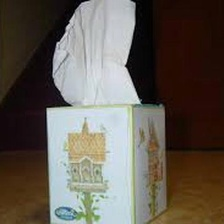plastic_box: (41, 97, 172, 224)
tissue: (47, 0, 146, 110)
